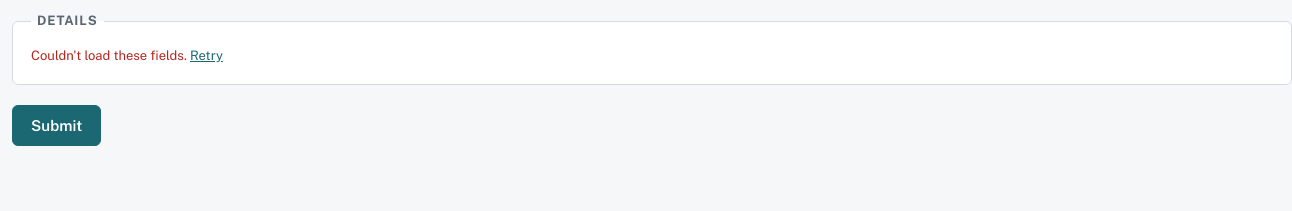
async UI states › shows loading and error states for fetched fragments, then their fields
Expected: the text "Couldn't load these fields. Retry" is shown, [31,47,223,66]
Click the button "Retry". click: (206, 56)
box: [190,47,223,66]
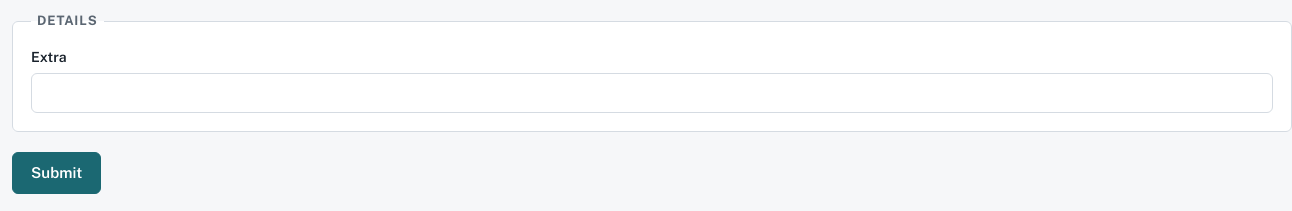
Result: the field labelled "Extra" is shown at [31,73,1273,113]
